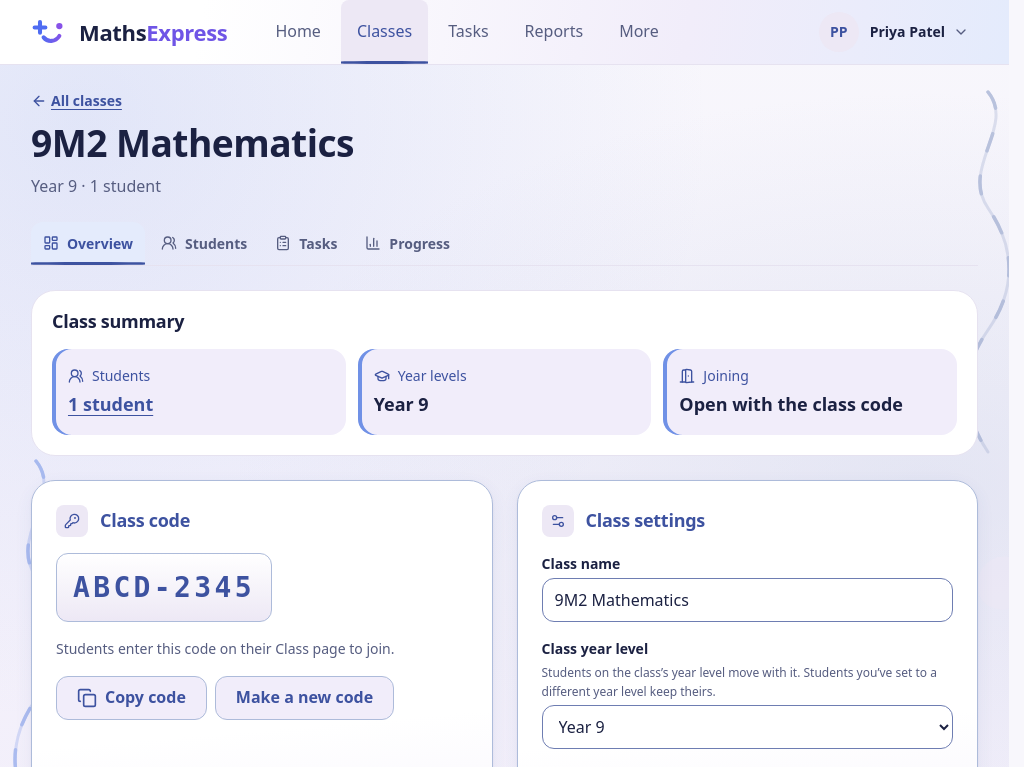
teacher class page › shows the class, its code and its students
Expected: the heading "9M2 Mathematics" is shown, 31,117 -> 354,168
Expected: the text "Year 9 · 1 student" is shown, 31,175 -> 161,197
Click the link "Students". click: {"x": 204, "y": 243}
box: 161,234 -> 247,253
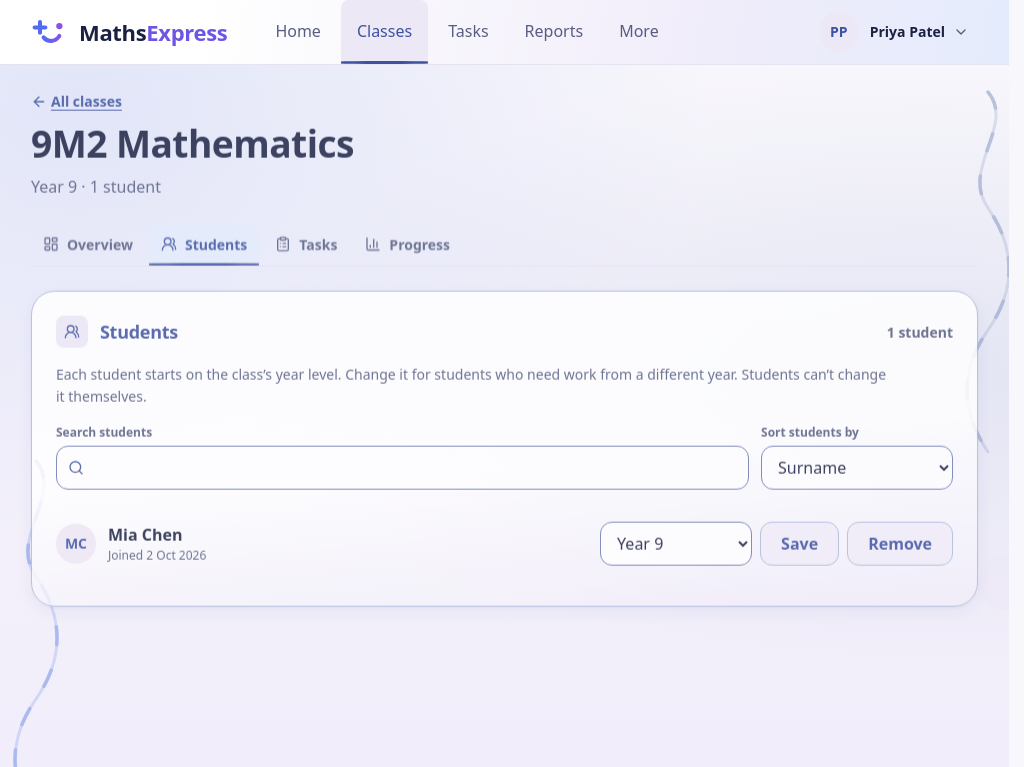
Expected: the text "Mia Chen" is shown, 108,523 -> 182,545
Expected: the dropdown named "Mia Chen’s year level" shows "Year 9", 600,522 -> 752,566
